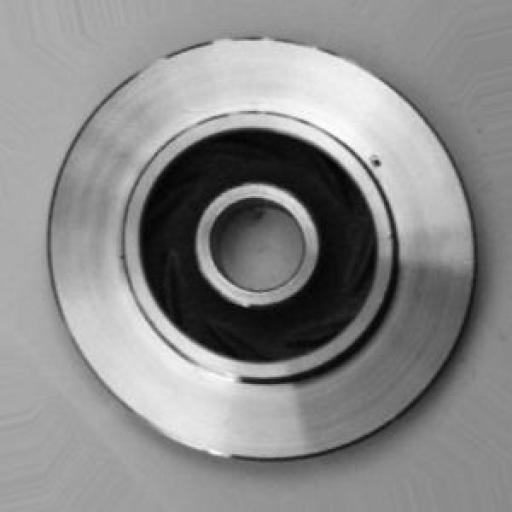defect: (363, 135, 402, 187)
